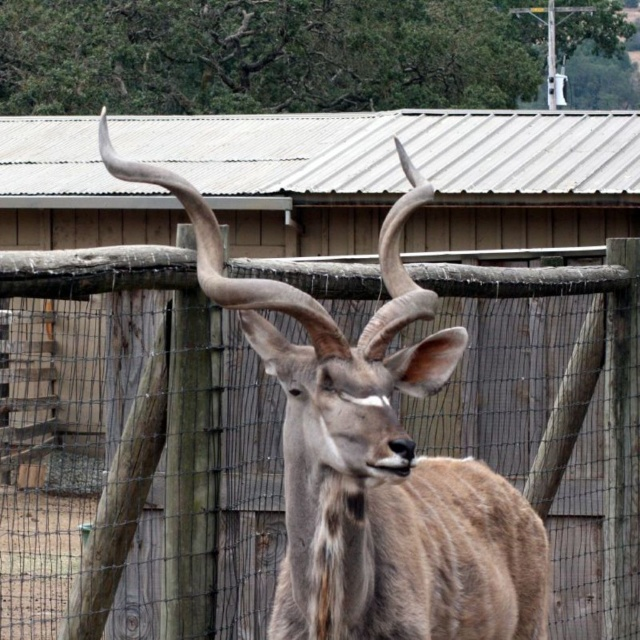Deer: (102, 102, 554, 639)
